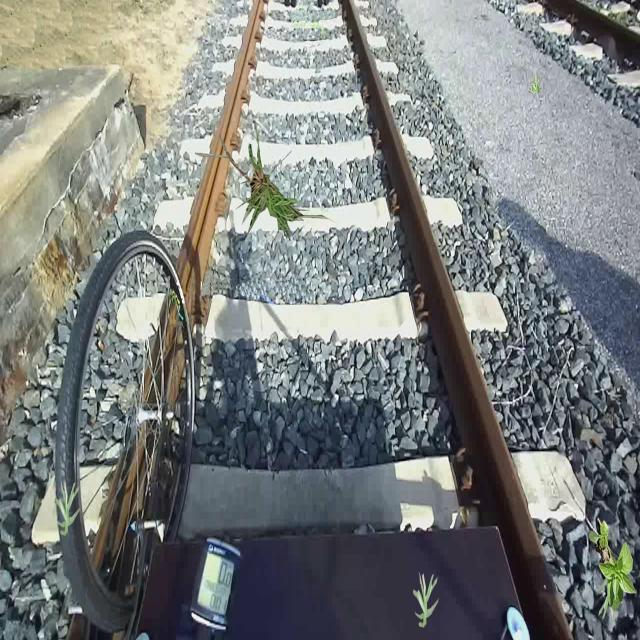Plant: (195, 122, 338, 242), (589, 517, 637, 612), (597, 565, 624, 622), (413, 572, 440, 628), (54, 480, 80, 536), (528, 73, 542, 94)
